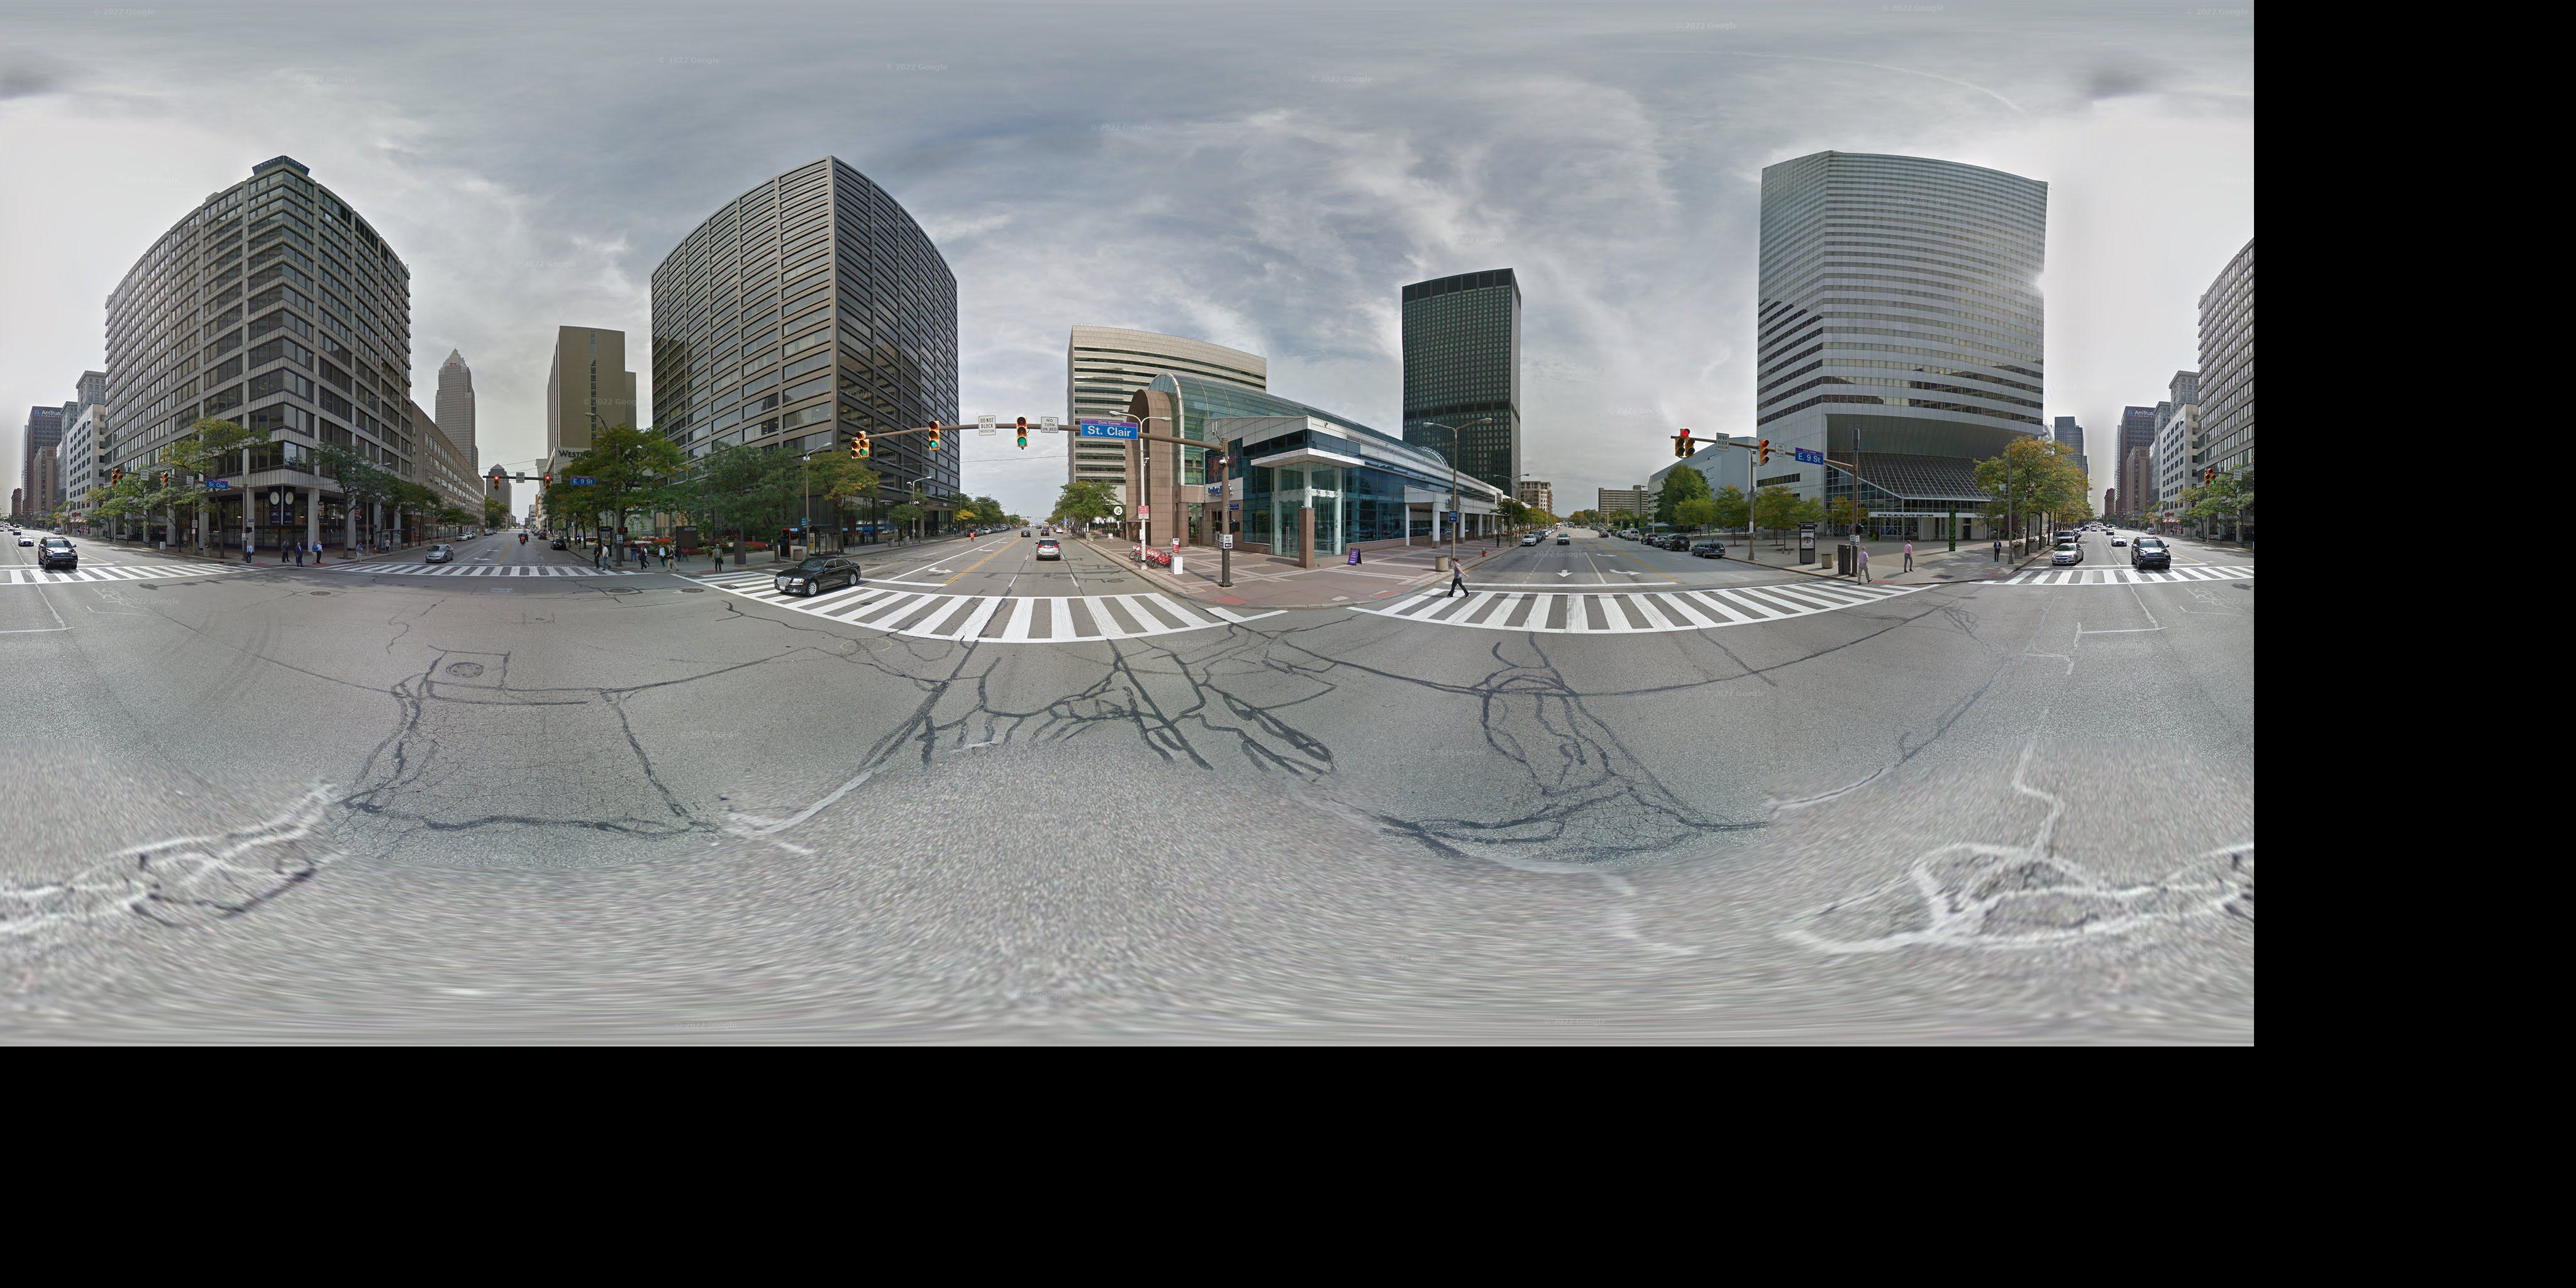Curb Ramp: (1199, 583, 1249, 614), (1364, 580, 1410, 609), (1868, 572, 1894, 590), (309, 557, 332, 572), (695, 567, 721, 577), (621, 562, 641, 573), (250, 559, 268, 568)
